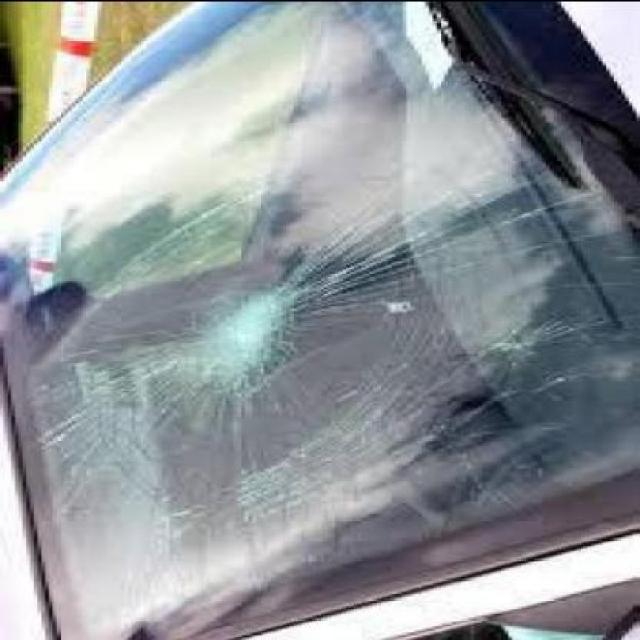damage: (181, 285, 286, 387)
